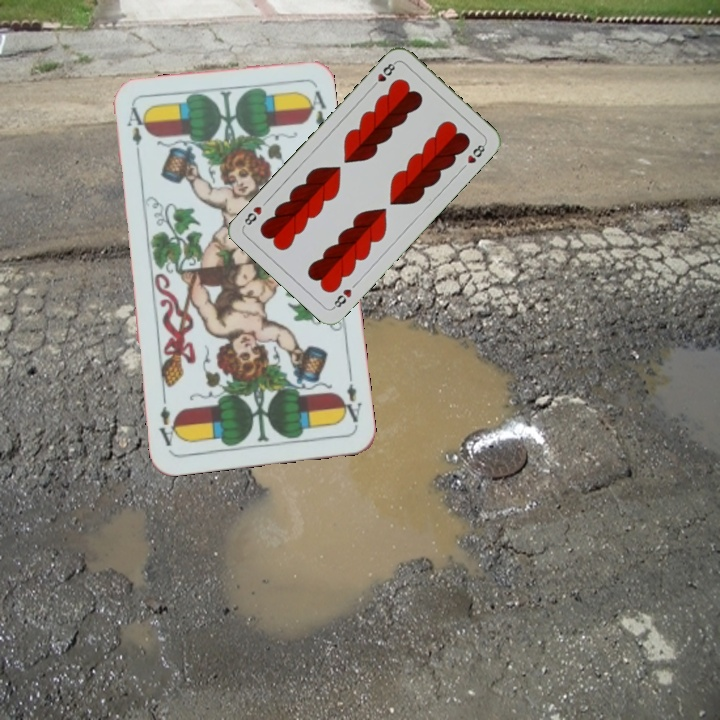EA: (336, 369, 365, 428), (123, 103, 145, 162)
H8: (368, 58, 399, 91), (329, 285, 354, 312)
